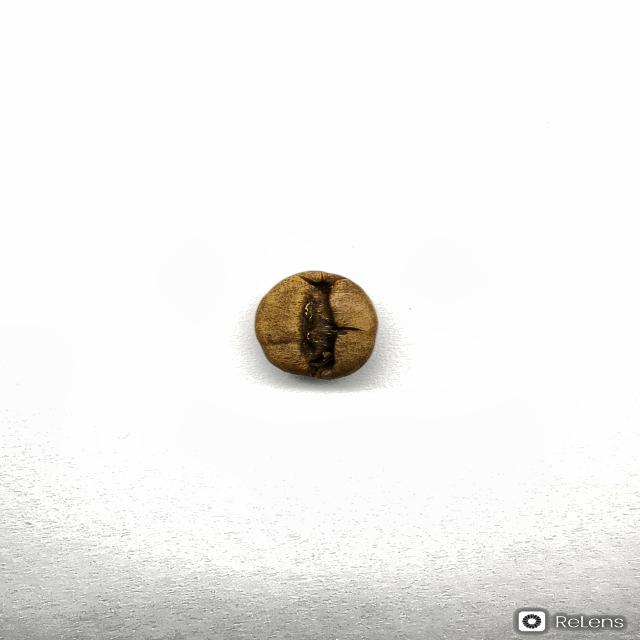Quaker: (253, 269, 379, 380)
